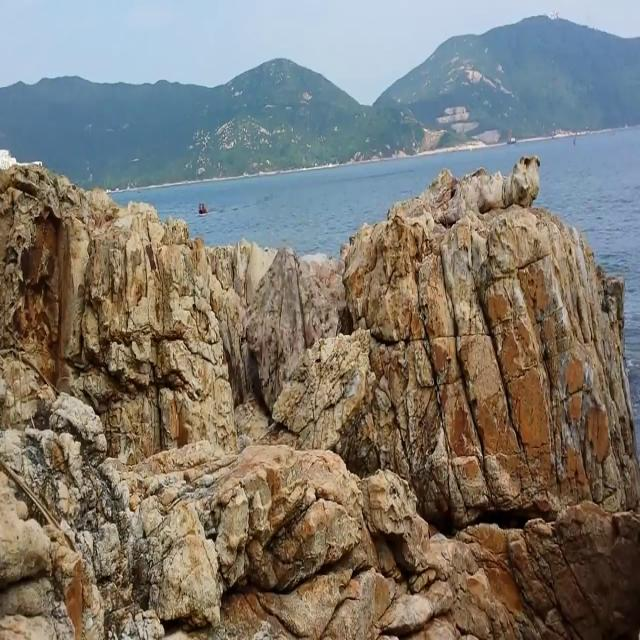Camouflage: (246, 246, 338, 407)
